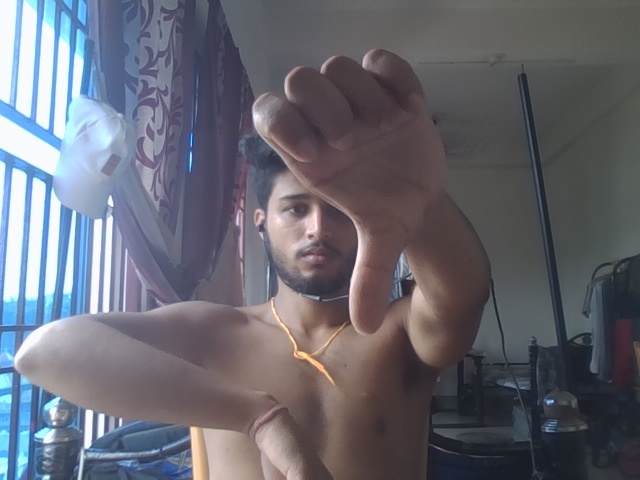Loser: (250, 48, 458, 337)
